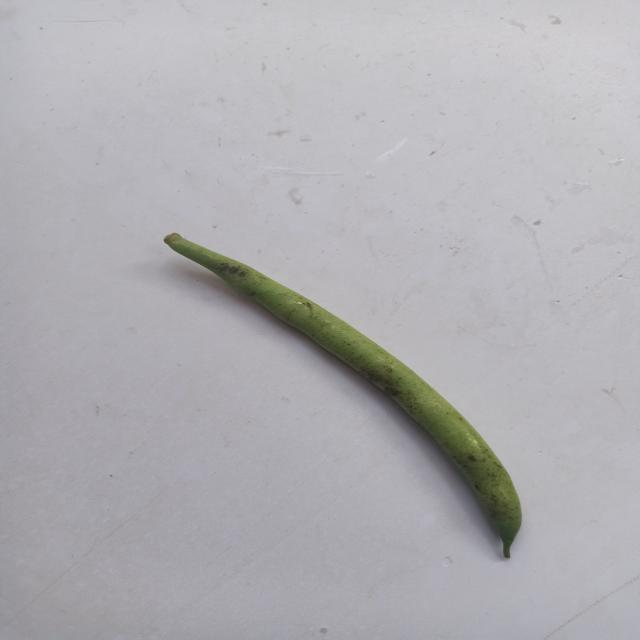Beans: (137, 207, 554, 577)
